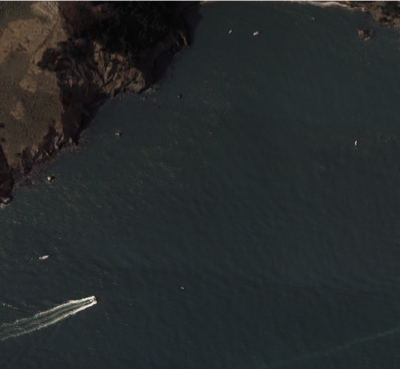boat: (39, 254, 50, 260), (89, 297, 97, 302), (253, 31, 260, 35), (181, 286, 185, 289), (355, 140, 357, 145), (229, 30, 232, 33), (311, 17, 315, 19)
